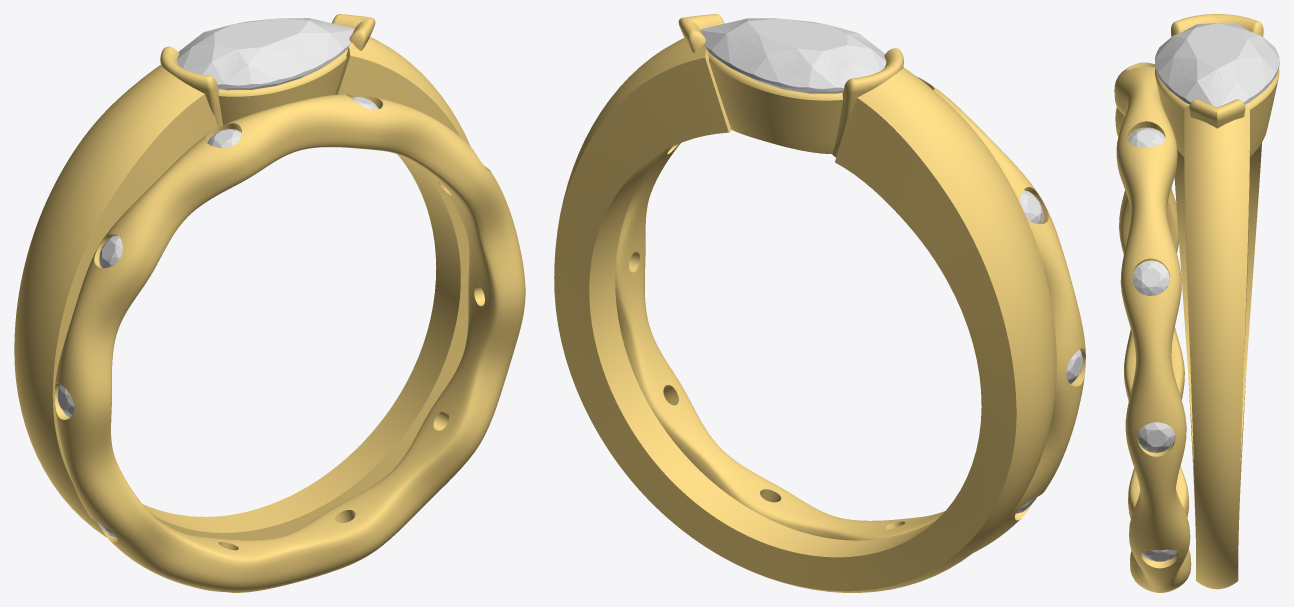
Rendered from PhoebeYGv2.glb.
3 views of the same model, side by side, from view 1: azimuth 30°, elevation 25°; view 2: azimuth 150°, elevation 25°; view 3: azimuth 270°, elevation 25° (orthographic). The views are drawn at different scales.
Visible parts, largest first — view 1: Phoebe YG for 3d model.001, Phoebe YG for 3d model, Phoebe YG for 3d model.004, Phoebe dia for 3d model.2006, Phoebe YG for 3d model.003, Phoebe YG for 3d model.002; view 2: Phoebe YG for 3d model, Phoebe YG for 3d model.001, Phoebe YG for 3d model.004, Phoebe dia for 3d model.2006, Phoebe YG for 3d model.003, Phoebe YG for 3d model.002; view 3: Phoebe YG for 3d model, Phoebe YG for 3d model.001, Phoebe YG for 3d model.004, Phoebe dia for 3d model.2006, Phoebe YG for 3d model.002, Phoebe YG for 3d model.003, Phoebe dia for 3d model.1526, Phoebe dia for 3d model.1330, Phoebe dia for 3d model.2799, Phoebe dia for 3d model.2744, Phoebe dia for 3d model.2780, Phoebe dia for 3d model.2787 (+2 smaller).
Boxes of the visible parts, <box> form: Phoebe YG for 3d model.001: <box>54,94,525,592</box>; Phoebe YG for 3d model: <box>14,37,470,540</box>; Phoebe YG for 3d model.004: <box>218,49,347,125</box>; Phoebe dia for 3d model.2006: <box>214,18,308,49</box>; Phoebe YG for 3d model.003: <box>160,46,222,127</box>; Phoebe YG for 3d model.002: <box>332,14,375,50</box>; Phoebe YG for 3d model: <box>554,38,1056,592</box>; Phoebe YG for 3d model.001: <box>615,76,1085,552</box>; Phoebe YG for 3d model.004: <box>707,51,842,153</box>; Phoebe dia for 3d model.2006: <box>748,18,847,50</box>; Phoebe YG for 3d model.003: <box>832,48,903,157</box>; Phoebe YG for 3d model.002: <box>678,14,724,52</box>; Phoebe YG for 3d model: <box>1174,17,1261,589</box>; Phoebe YG for 3d model.001: <box>1114,62,1191,592</box>; Phoebe YG for 3d model.004: <box>1155,68,1279,156</box>; Phoebe dia for 3d model.2006: <box>1186,23,1247,68</box>; Phoebe YG for 3d model.002: <box>1189,99,1245,128</box>; Phoebe YG for 3d model.003: <box>1171,14,1263,36</box>; Phoebe dia for 3d model.1526: <box>1141,268,1160,286</box>; Phoebe dia for 3d model.1330: <box>1147,430,1165,446</box>; Phoebe dia for 3d model.2799: <box>1237,81,1265,97</box>; Phoebe dia for 3d model.2744: <box>1168,81,1196,97</box>; Phoebe dia for 3d model.2780: <box>1218,59,1237,80</box>; Phoebe dia for 3d model.2787: <box>1173,39,1196,58</box>.
Size of the model in its own units: 22.58 by 24.62 by 7.02.
